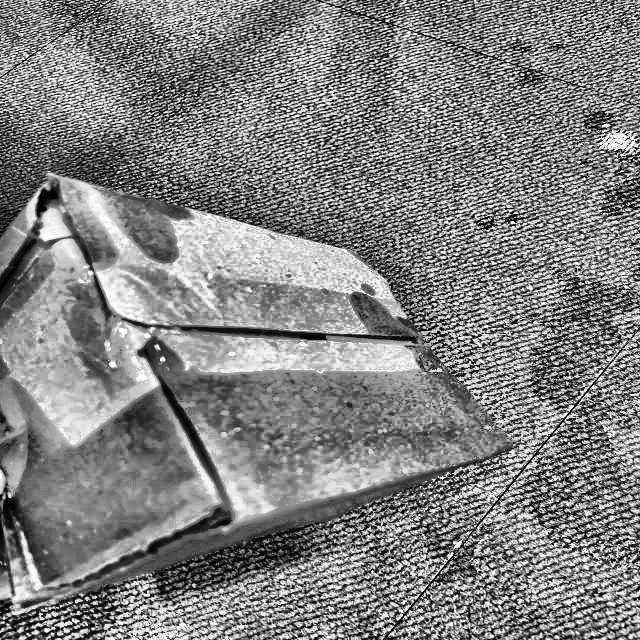box: (0, 171, 521, 611)
wet: (4, 344, 510, 604), (42, 174, 192, 270)
